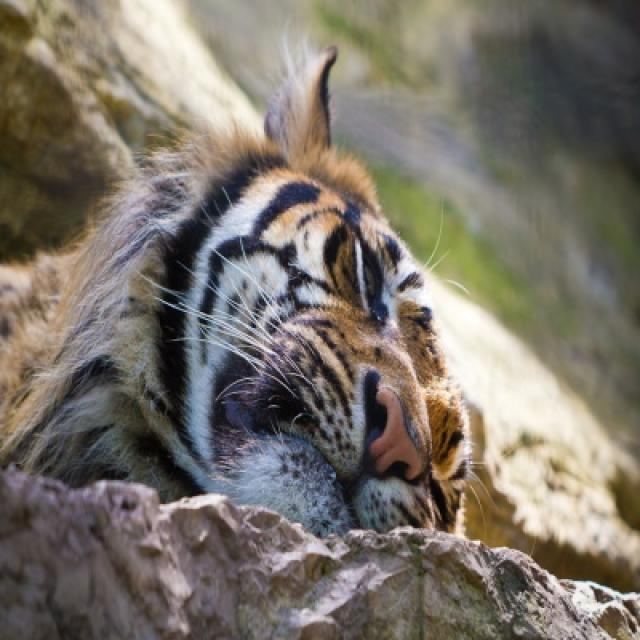Tiger: (0, 44, 470, 531)
